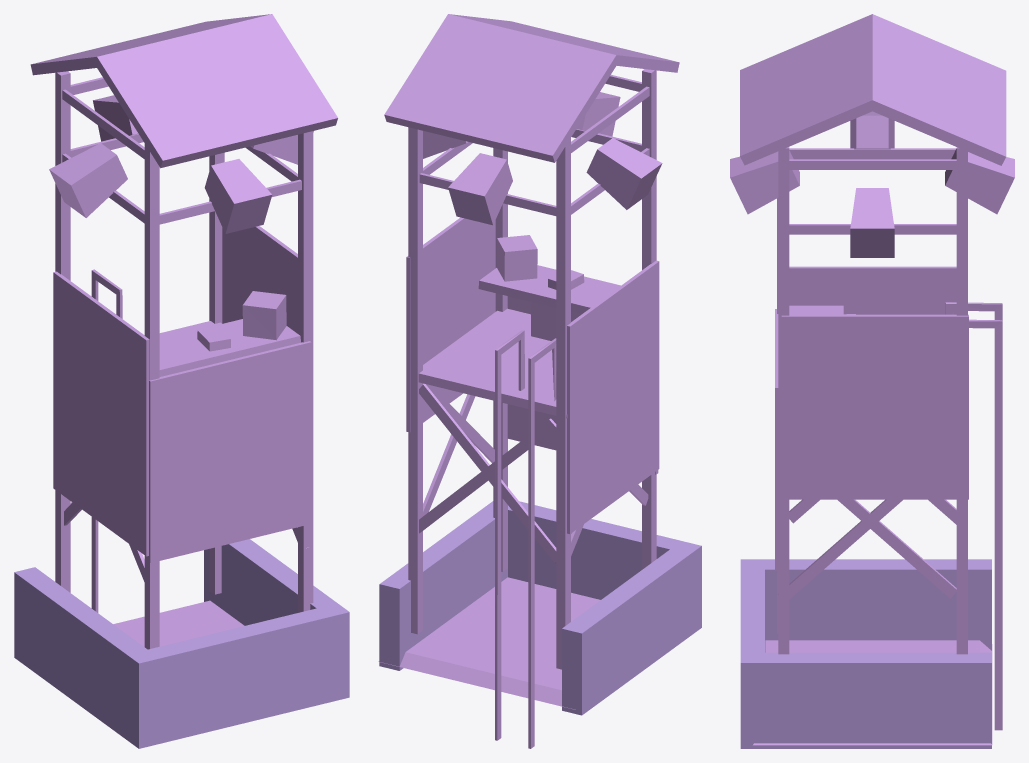
Rendered from stationary-radiotower.glb.
3 renders of one model, left to right at view 1: azimuth 30°, elevation 25°; view 2: azimuth 150°, elevation 25°; view 3: azimuth 270°, elevation 25°, orthographic. The views are drawn at different scales.
Visible parts, largest first — view 1: CC_Loudspeaker; view 2: CC_Loudspeaker; view 3: CC_Loudspeaker.
Part boxes in pixels (left/top/right/bottom): CC_Loudspeaker: left=14, top=14, right=349, bottom=748; CC_Loudspeaker: left=378, top=14, right=701, bottom=748; CC_Loudspeaker: left=730, top=14, right=1014, bottom=748.
Size of the model in its own units: 3.54 by 9.39 by 3.54.
